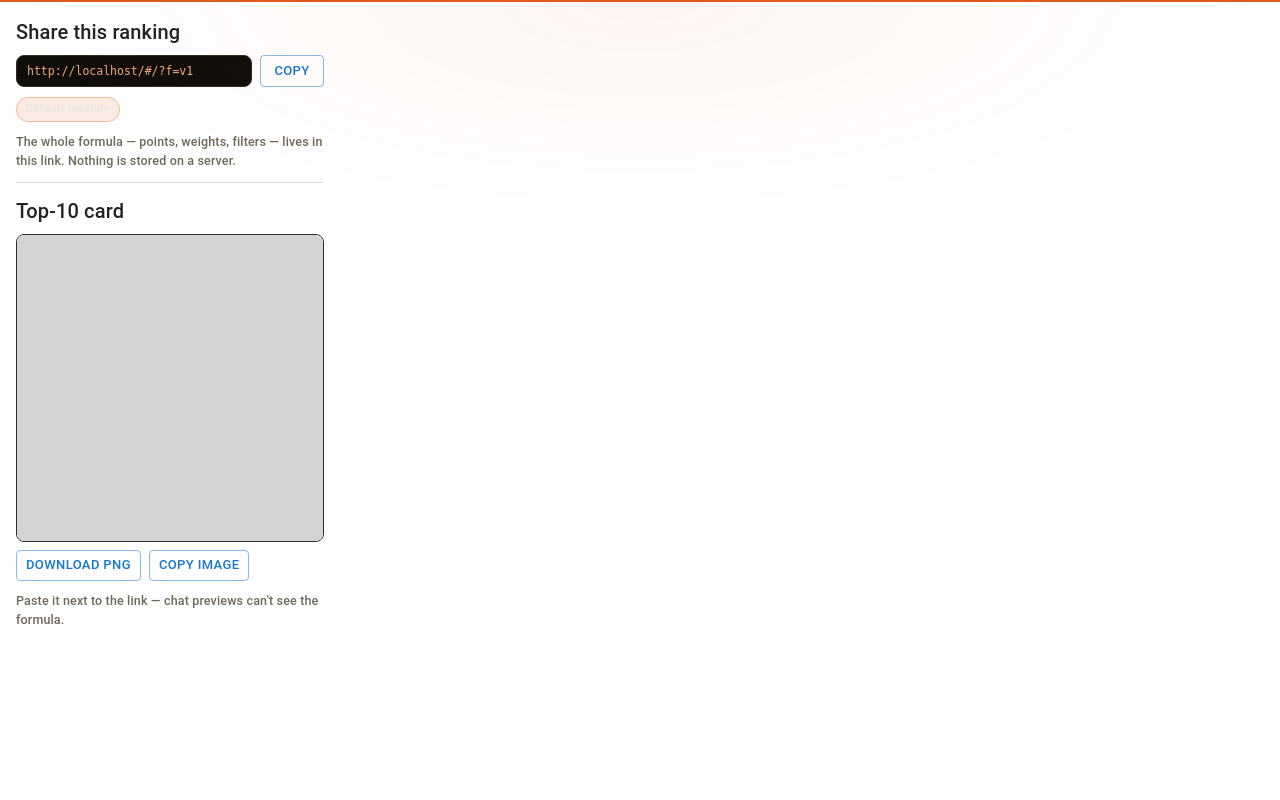
Test: the card actions › copy image falls back to a message when the browser cannot do it
The width and height of the screenshot is (1280, 800).
Click the button "Copy image": (199, 566) [149, 550, 249, 581]
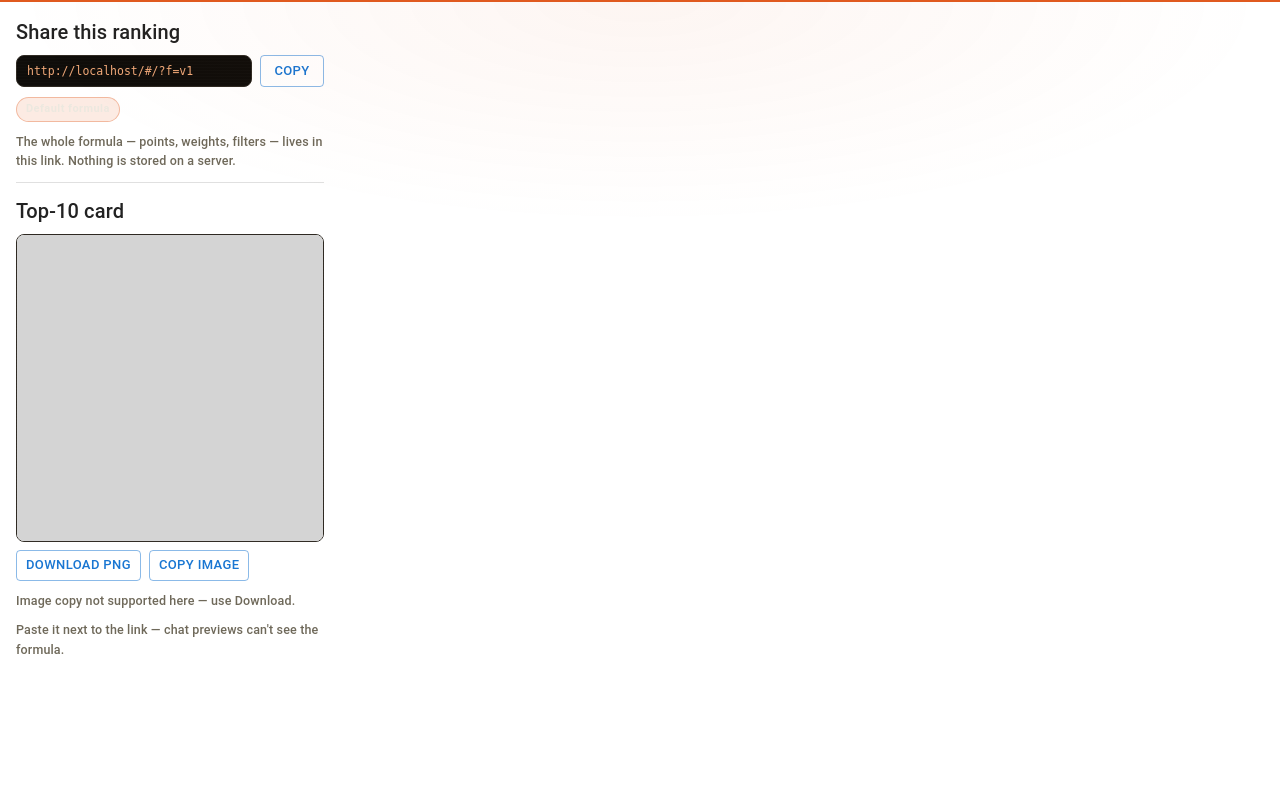
Check: the text "Image copy not supported here — use Download." is shown, box [16, 591, 324, 610]
